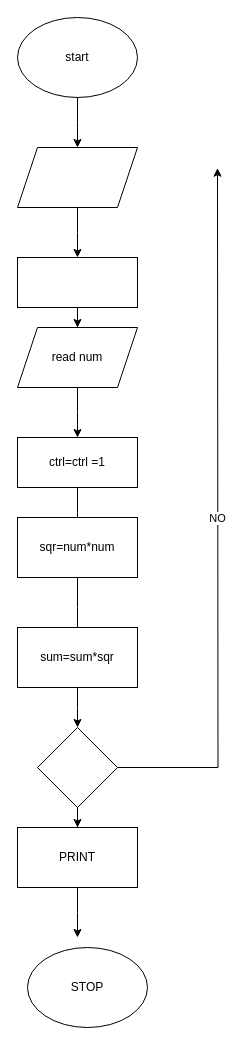
Image size: 244x1045. Some labels were removed from this diagram. The shapes that lost their labels are listed below. From the top down, each one's box as (x1, y1, x2, y2) in pixels, then its label:
(16, 146, 138, 208): read N
(16, 256, 138, 308): let ctrl=0, sum=0
(36, 726, 118, 808): if ctrl is less than N
